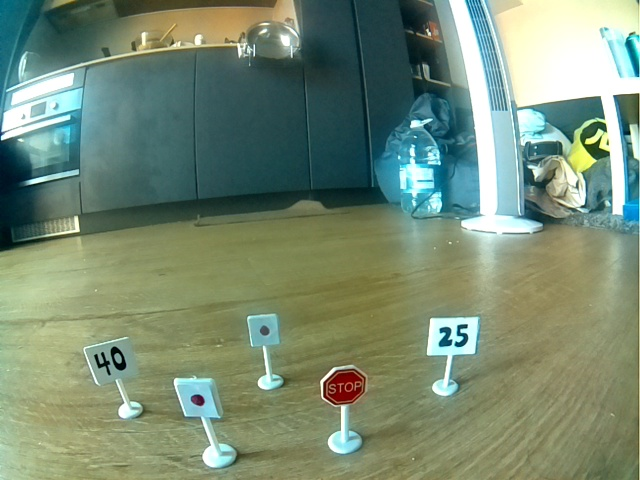red light: (179, 381, 215, 417), (250, 315, 278, 346)
speed 25: (431, 318, 477, 355)
speed 40: (89, 345, 134, 382)
stop: (323, 368, 368, 406)
